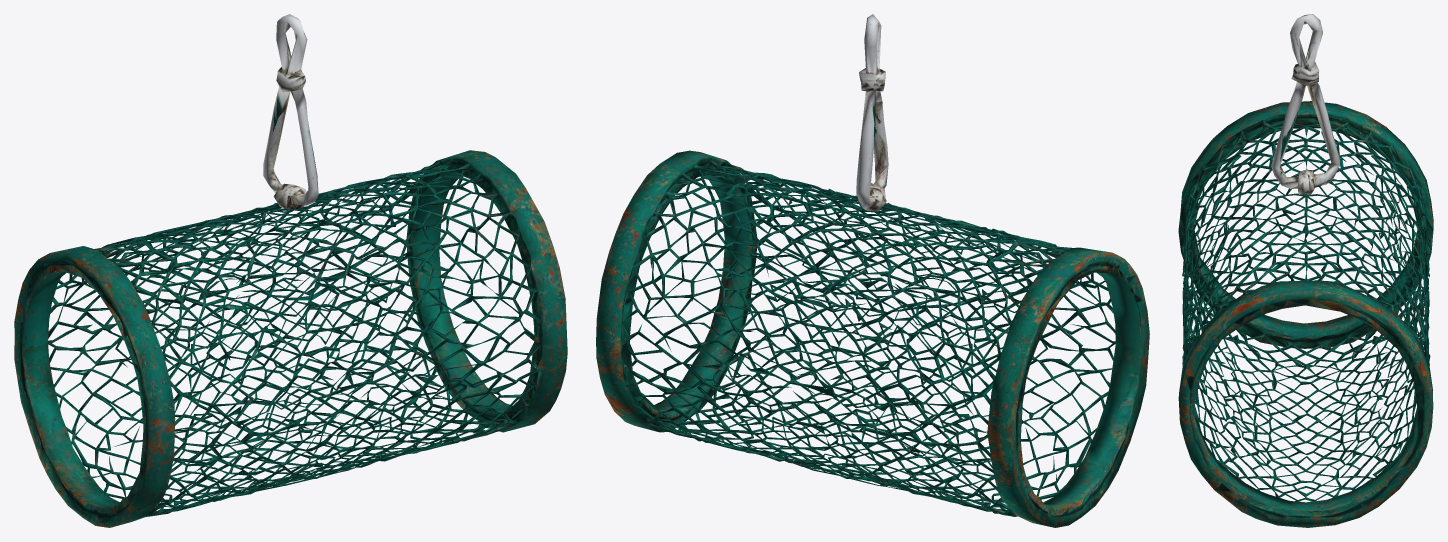
Rendered from feeder_cage.glb.
3 renders of one model, left to right at view 1: azimuth 30°, elevation 25°; view 2: azimuth 150°, elevation 25°; view 3: azimuth 270°, elevation 25°, orthographic. The views are drawn at different scales.
Parts seen in each view (by area): view 1: Mesh_0; view 2: Mesh_0; view 3: Mesh_0.
Boxes of the visible parts, left/top/right/bottom form: Mesh_0: left=14, top=14, right=567, bottom=527; Mesh_0: left=596, top=14, right=1149, bottom=527; Mesh_0: left=1178, top=14, right=1433, bottom=527.
Size of the model in its own units: 1.83 by 1.89 by 1.03.
1 material, 1 textured.
